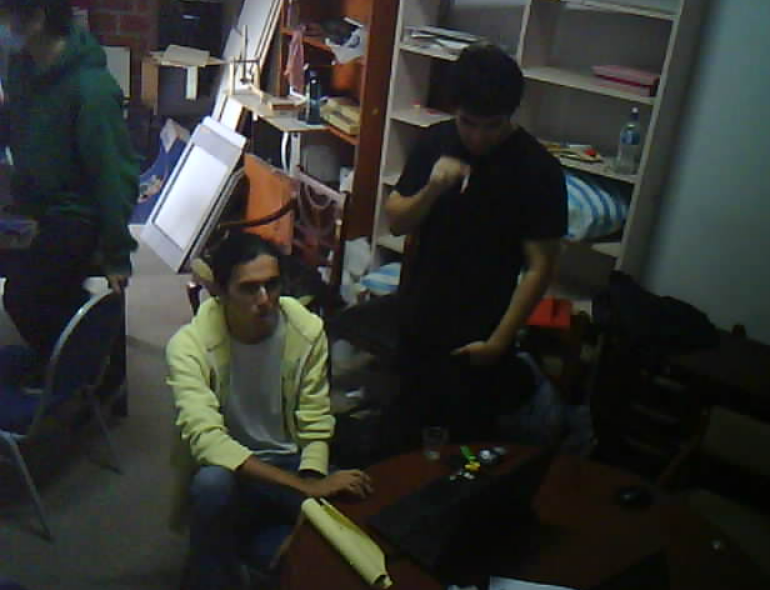person: (151, 232, 380, 590), (375, 32, 575, 437), (0, 0, 137, 421)
